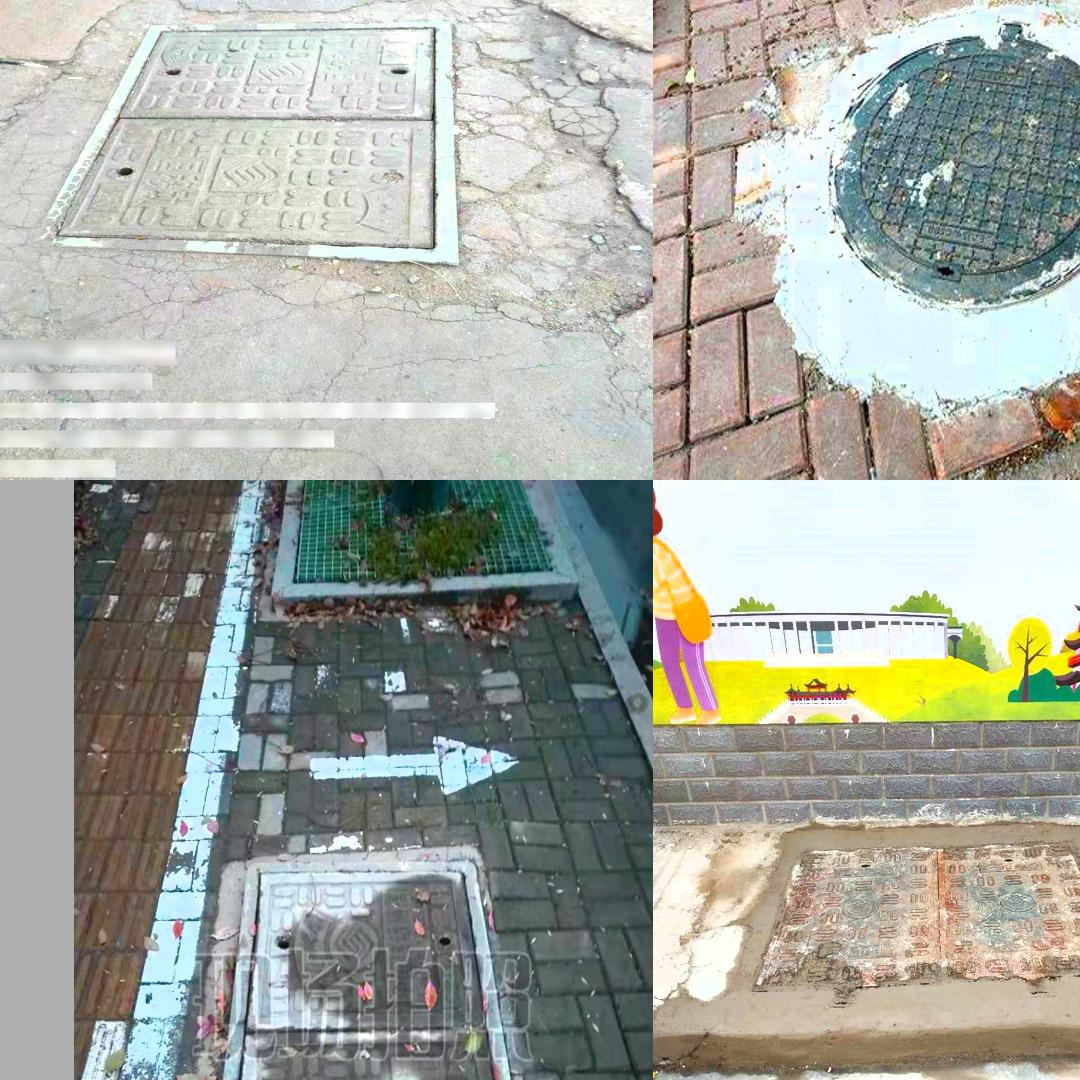good: (776, 0, 1080, 395), (49, 22, 453, 245), (194, 859, 540, 1080), (742, 837, 1080, 1008)
